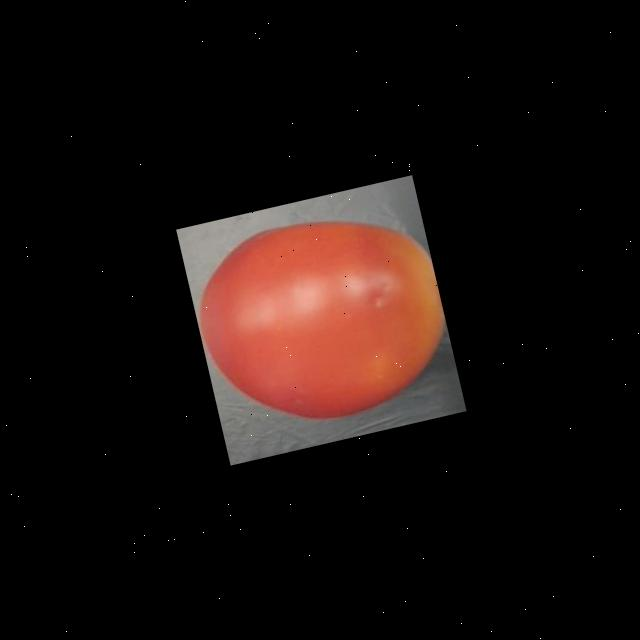tomato: (178, 190, 461, 448)
